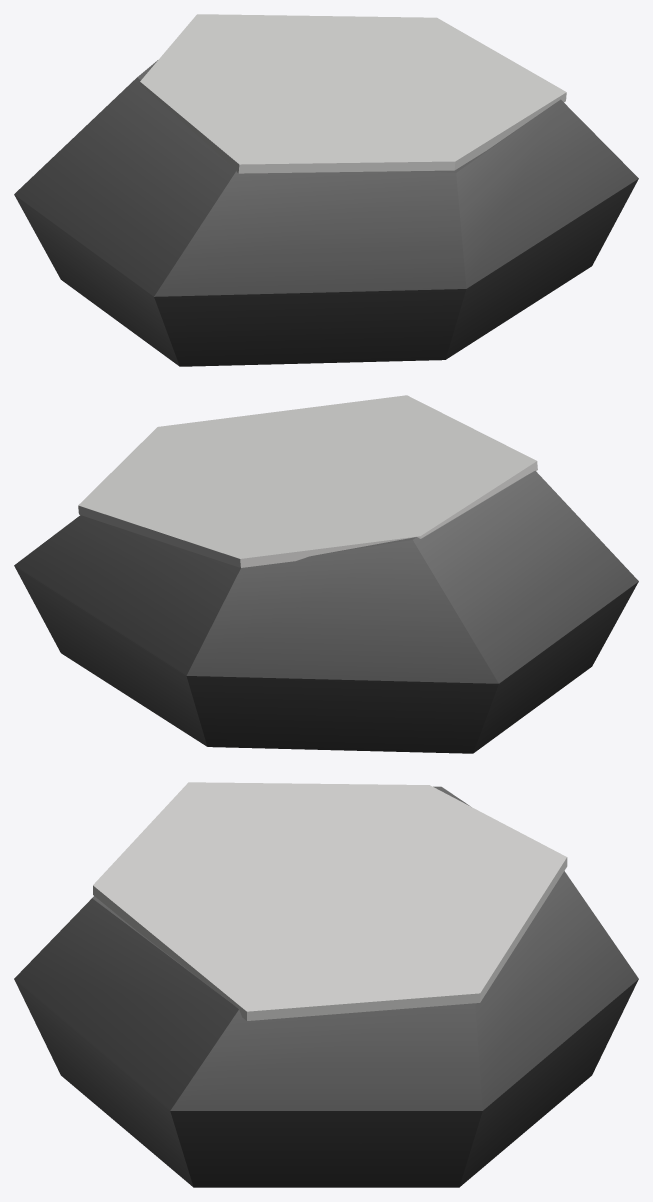
The model's file is Rock1.fbx.
3 views of the same model, one above another, from view 1: azimuth 30°, elevation 25°; view 2: azimuth 150°, elevation 25°; view 3: azimuth 270°, elevation 25° (orthographic). The views are drawn at different scales.
Visible parts, largest first — view 1: Rock_2; view 2: Rock_2; view 3: Rock_2.
Boxes of the visible parts, left/top/right/bottom form: Rock_2: left=14, top=14, right=638, bottom=366; Rock_2: left=14, top=395, right=638, bottom=753; Rock_2: left=14, top=782, right=638, bottom=1187.
Bounding box in the file's own units: 57.02 × 21.54 × 57.02.
2 materials, 1 textured.
